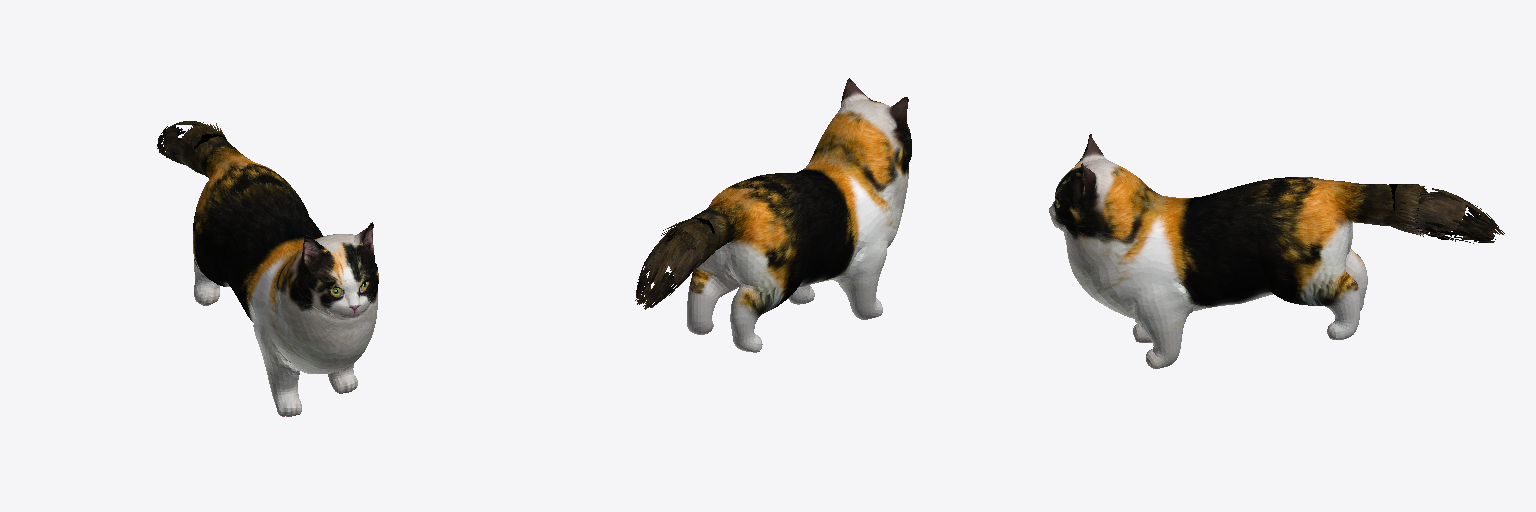
The picture shows the model from 3 angles: view 1: azimuth 30°, elevation 25°; view 2: azimuth 150°, elevation 25°; view 3: azimuth 270°, elevation 25°; orthographic projection.
Parts seen in each view (by area): view 1: Muchkin1, Muchkin1_001; view 2: Muchkin1, Muchkin1_001; view 3: Muchkin1, Muchkin1_001.
Boxes of the visible parts, <box> form: Muchkin1: <box>179,122,378,416</box>; Muchkin1_001: <box>157,121,215,174</box>; Muchkin1: <box>650,78,911,352</box>; Muchkin1_001: <box>635,221,716,309</box>; Muchkin1: <box>1049,134,1458,368</box>; Muchkin1_001: <box>1391,185,1504,243</box>.
Bounding box in the file's own units: 0.218 × 0.392 × 0.811.
2 materials, 2 textured.